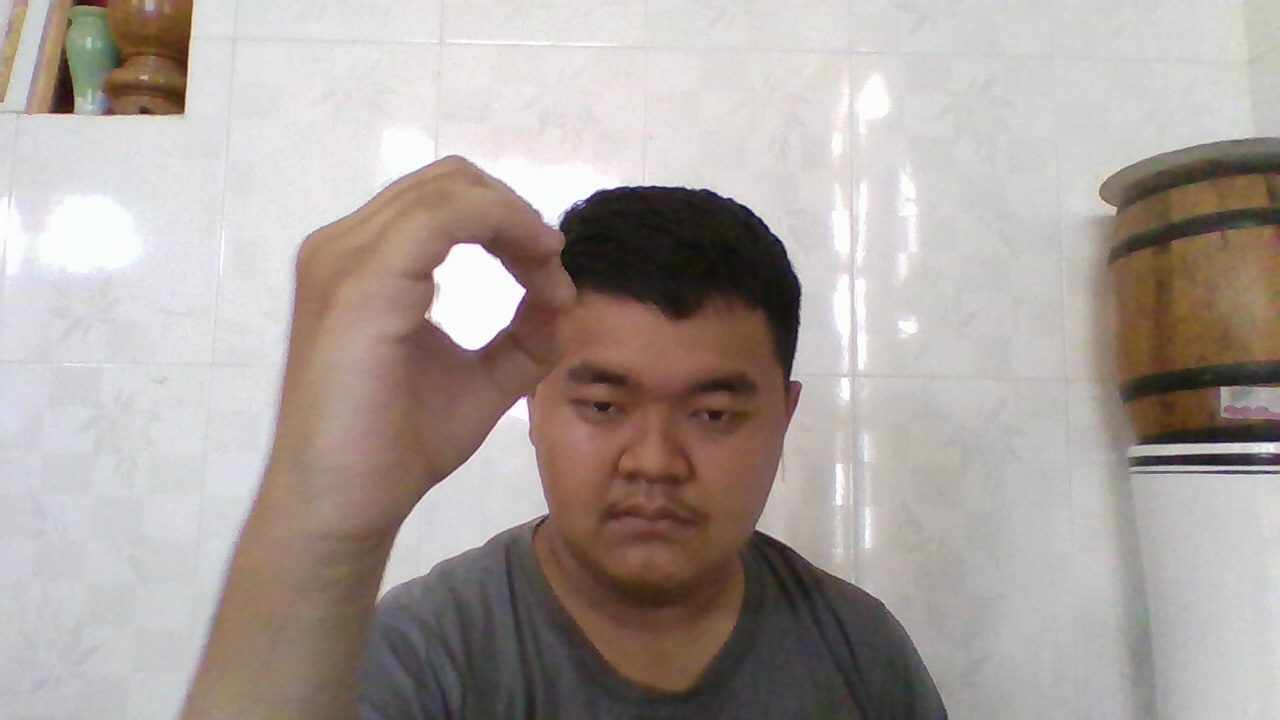O: (306, 155, 576, 532)
